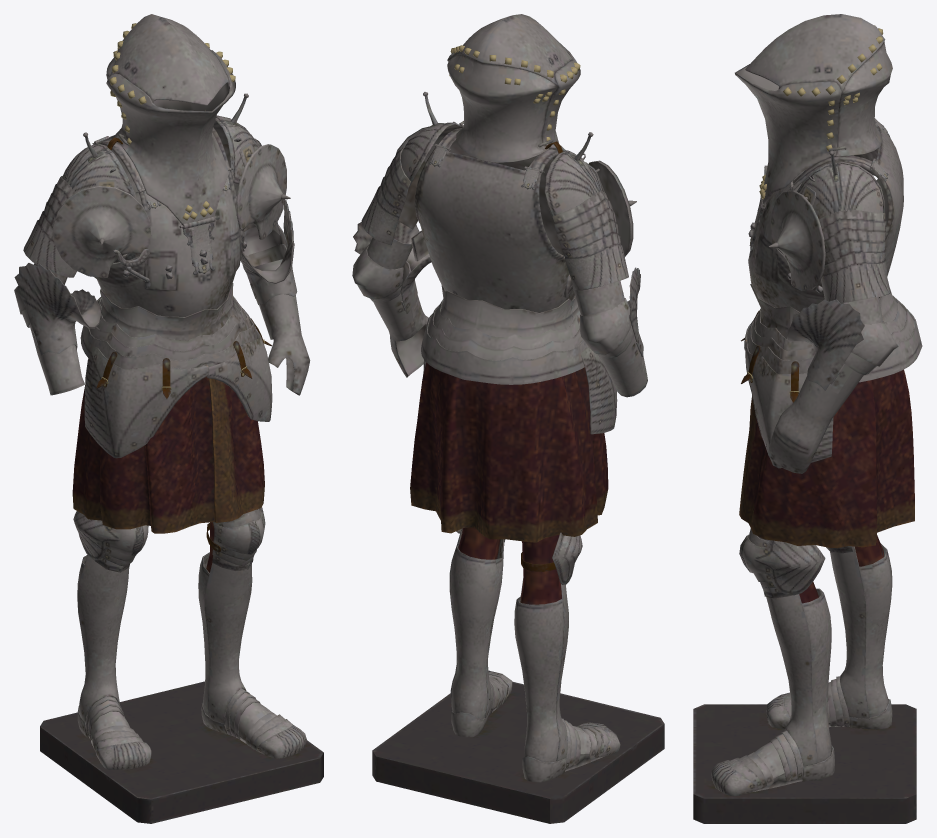
Rendered from The_Knight_Armor_TLOU_Part_II.glb.
3 views of the same model, side by side, from view 1: azimuth 30°, elevation 25°; view 2: azimuth 150°, elevation 25°; view 3: azimuth 270°, elevation 25° (orthographic). The views are drawn at different scales.
Parts seen in each view (by area): view 1: unnamed (×3); view 2: unnamed (×3); view 3: unnamed (×3).
Boxes of the visible parts, x1,y1,x2,y2 form: unnamed (×3): [14, 14, 323, 823]; unnamed (×3): [352, 14, 664, 823]; unnamed (×3): [693, 14, 922, 823].
Bounding box in the file's own units: 0.7477 × 1.94 × 0.5282.
1 material, 1 textured.
